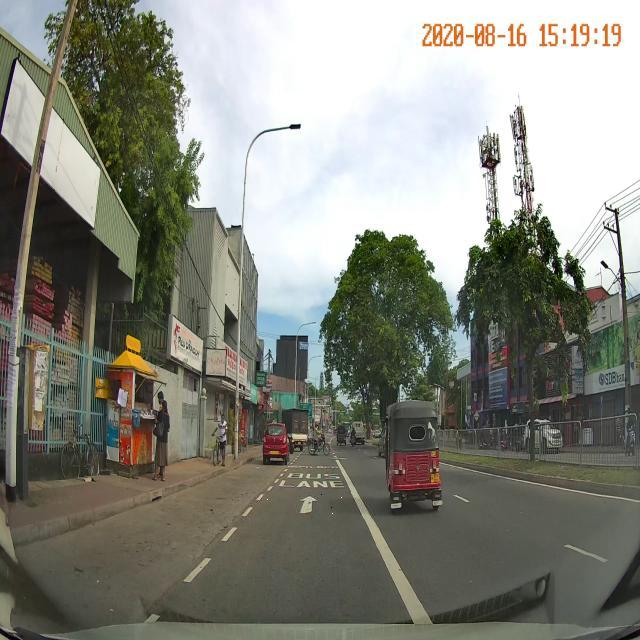forward: (242, 493, 373, 519)
